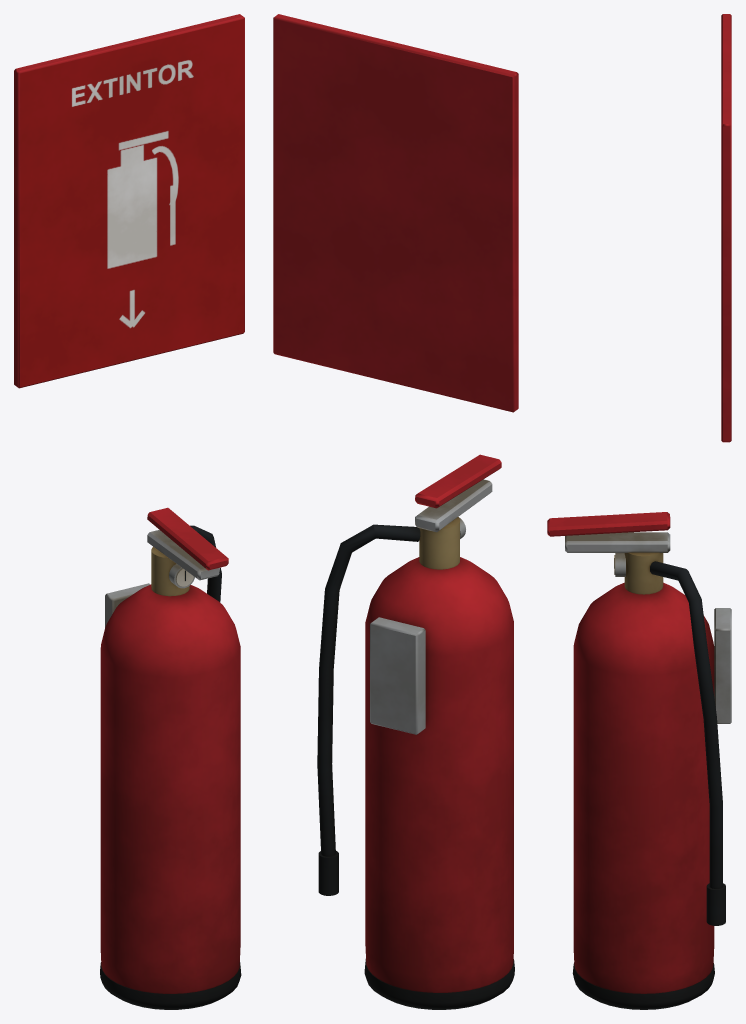
Rendered from extintor_sujo_realista.glb.
3 renders of one model, left to right at view 1: azimuth 30°, elevation 25°; view 2: azimuth 150°, elevation 25°; view 3: azimuth 270°, elevation 25°, orthographic. The views are drawn at different scales.
Parts seen in each view (by area): view 1: Extintor_Com_Placa_PBR; view 2: Extintor_Com_Placa_PBR; view 3: Extintor_Com_Placa_PBR.
Boxes of the visible parts, x1=… form: Extintor_Com_Placa_PBR: x1=14, y1=14, x2=244, y2=1009; Extintor_Com_Placa_PBR: x1=273, y1=14, x2=518, y2=1009; Extintor_Com_Placa_PBR: x1=547, y1=14, x2=731, y2=1009.
Bounding box in the file's own units: 0.3 × 1.15 × 0.2101.
1 material, 1 textured.
